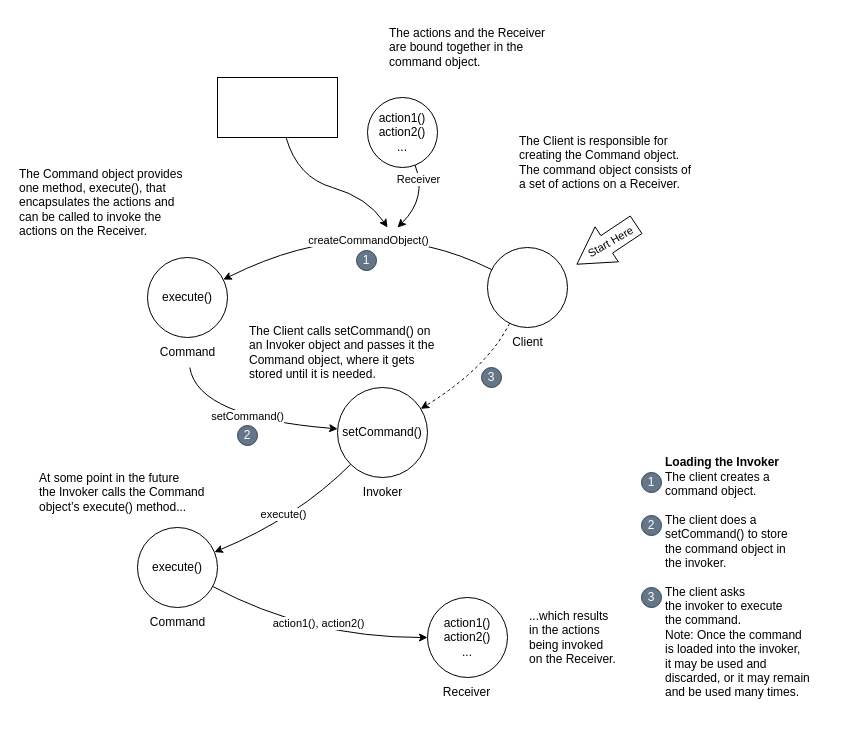
This 850x729 diagram has some shape labels left out. The box of each missing label's shape, as (x1, y1, x2, y2) in pixels:
create Command Object(): (486, 246, 568, 328)
public void execute { receiver.action1(); receiver.action2(); }: (216, 76, 338, 138)
